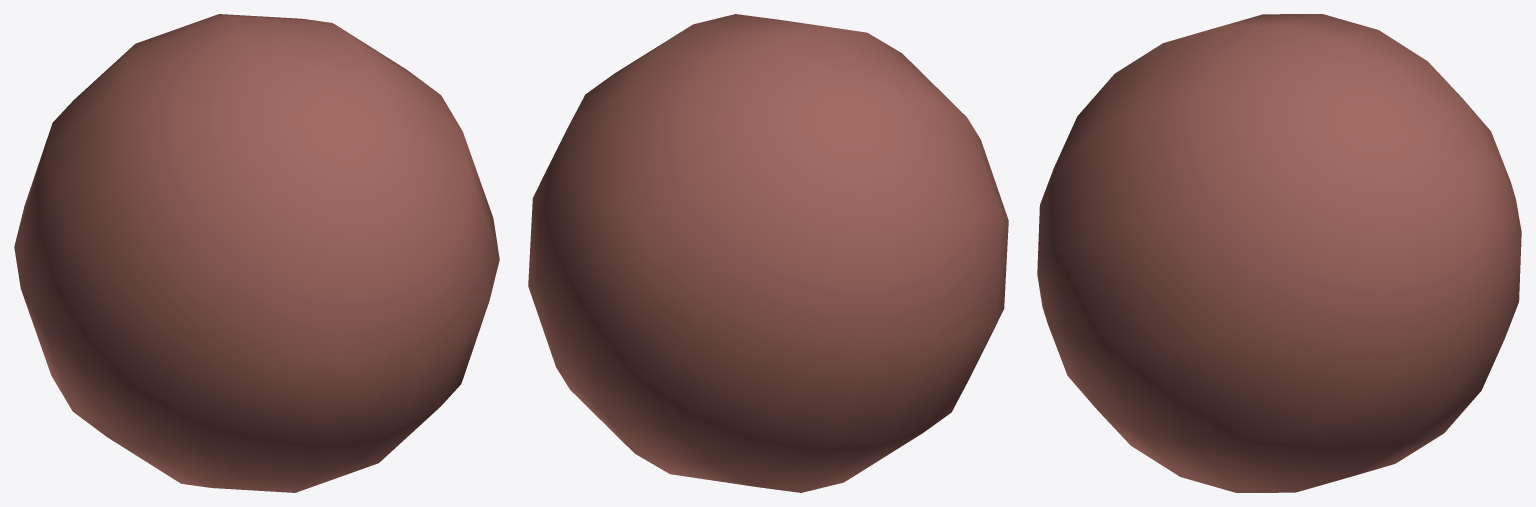
Rendered from mixamo_humanoid_joint_rightHandIndex3.fbx.
3 renders of one model, left to right at view 1: azimuth 30°, elevation 25°; view 2: azimuth 150°, elevation 25°; view 3: azimuth 270°, elevation 25°, orthographic.
Visible parts, largest first — view 1: joint_RightHandIndex3; view 2: joint_RightHandIndex3; view 3: joint_RightHandIndex3.
Part boxes in pixels (left/top/right/bottom): joint_RightHandIndex3: left=14, top=14, right=499, bottom=492; joint_RightHandIndex3: left=528, top=14, right=1008, bottom=492; joint_RightHandIndex3: left=1037, top=14, right=1521, bottom=492.
Bounding box in the file's own units: 1.72 × 1.73 × 1.72.
